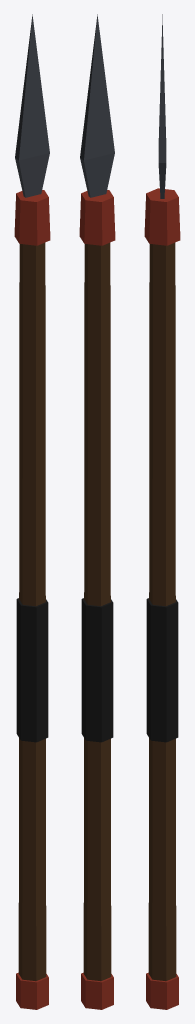
The model's file is weapon_naginata.glb.
The picture shows the model from 3 angles, left to right: view 1: azimuth 30°, elevation 25°; view 2: azimuth 210°, elevation 25°; view 3: azimuth 270°, elevation 25°; orthographic projection.
Parts seen in each view (by area): view 1: orc_weapon_naginata; view 2: orc_weapon_naginata; view 3: orc_weapon_naginata.
Boxes of the visible parts, x1=… form: orc_weapon_naginata: x1=14, y1=14, x2=50, y2=1009; orc_weapon_naginata: x1=79, y1=14, x2=115, y2=1009; orc_weapon_naginata: x1=144, y1=14, x2=180, y2=1009.
Bounding box in the file's own units: 0.0638 × 1.93 × 0.0638.
